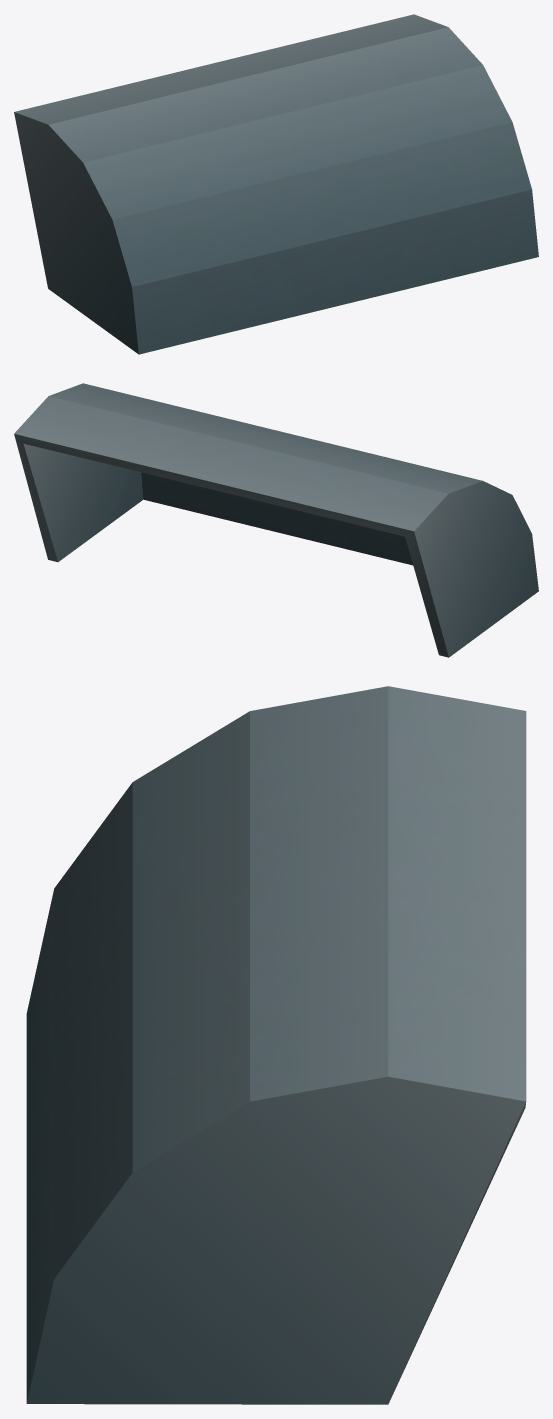
File: BreadBin_Lid.fbx
3 views of the same model, one above another, from view 1: azimuth 30°, elevation 25°; view 2: azimuth 150°, elevation 25°; view 3: azimuth 270°, elevation 25° (orthographic). The views are drawn at different scales.
Visible parts, largest first — view 1: BreadBin_Lid; view 2: BreadBin_Lid; view 3: BreadBin_Lid.
Part boxes in pixels (x1=…): BreadBin_Lid: x1=14, y1=14, x2=538, y2=354; BreadBin_Lid: x1=14, y1=383, x2=538, y2=657; BreadBin_Lid: x1=26, y1=686, x2=526, y2=1404.
Size of the model in its own units: 67.1 by 26.23 by 36.2.
